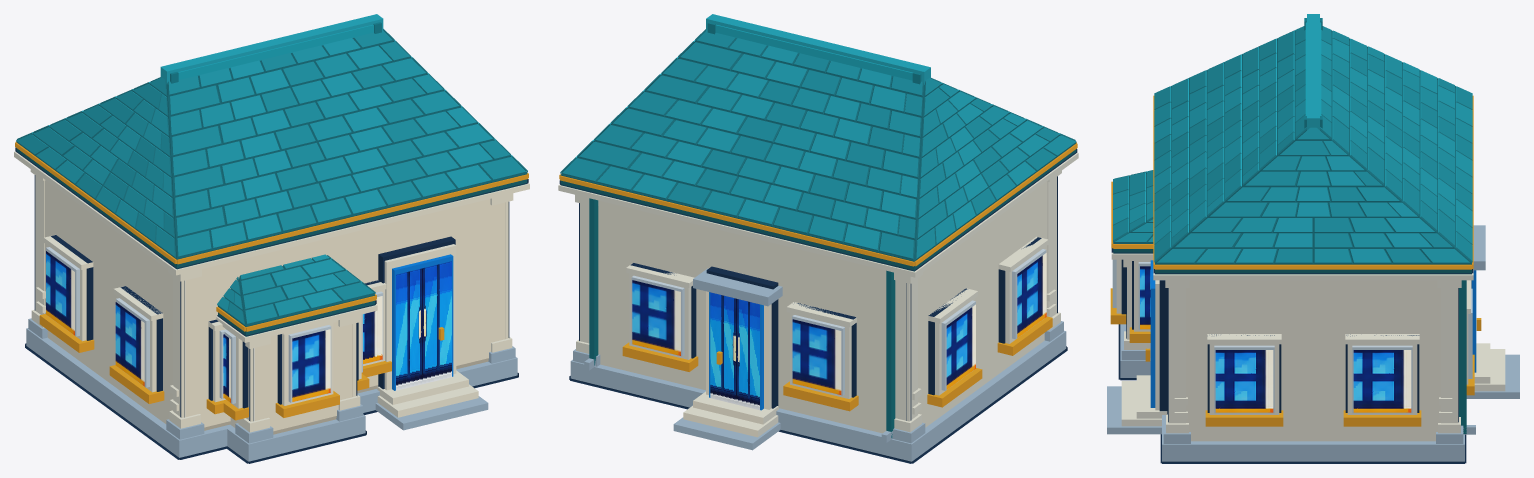
3 views of the same model, side by side, from view 1: azimuth 30°, elevation 25°; view 2: azimuth 150°, elevation 25°; view 3: azimuth 270°, elevation 25° (orthographic). The views are drawn at different scales.
Parts seen in each view (by area): view 1: H09 前凸窗小屋; view 2: H09 前凸窗小屋; view 3: H09 前凸窗小屋.
Boxes of the visible parts, x1,y1,x2,y2 form: H09 前凸窗小屋: [14, 14, 529, 463]; H09 前凸窗小屋: [558, 14, 1078, 463]; H09 前凸窗小屋: [1107, 14, 1519, 463].
Bounding box in the file's own units: 6.34 × 5.45 × 6.46.
2 materials, 1 textured.
